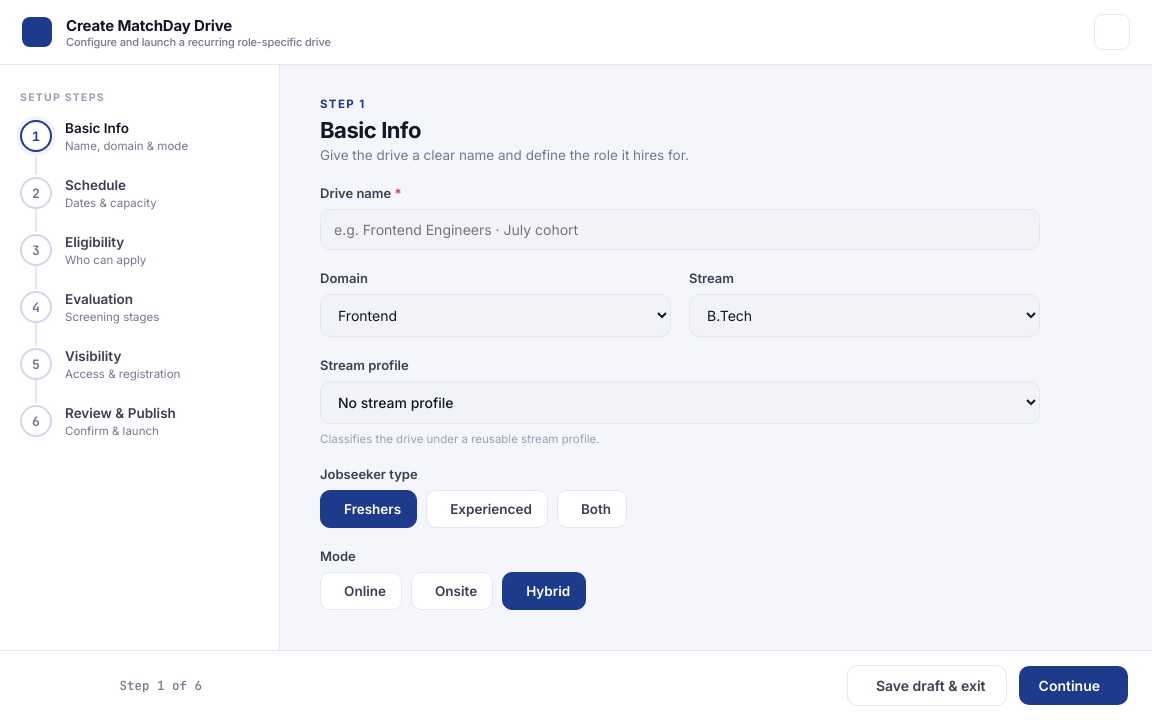
Test: DriveWizard › allows Continue once a name is entered
Type "Frontend Engineers · July cohort" into the field with placeholder "e.g. Frontend Engineers · July cohort".
click(680, 230); type("Frontend Engineers · July cohort")  # box [320,209,1040,250]
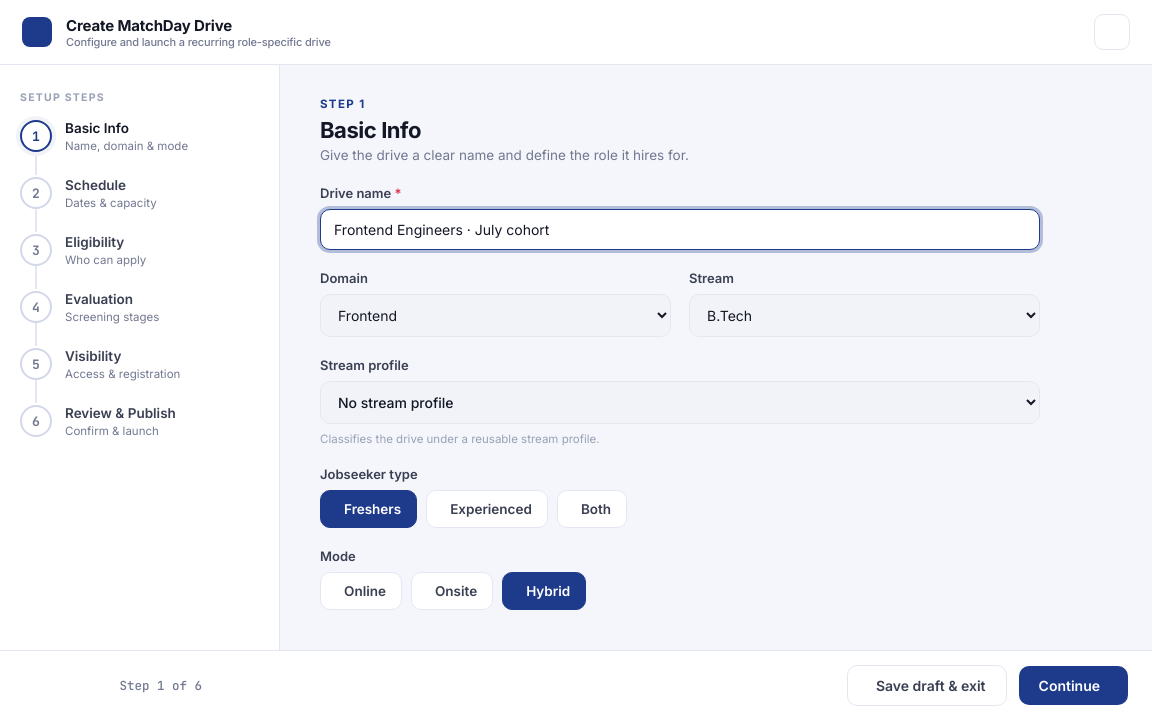
Click the button "Continue".
click(1073, 686)  # box [1019,666,1128,705]
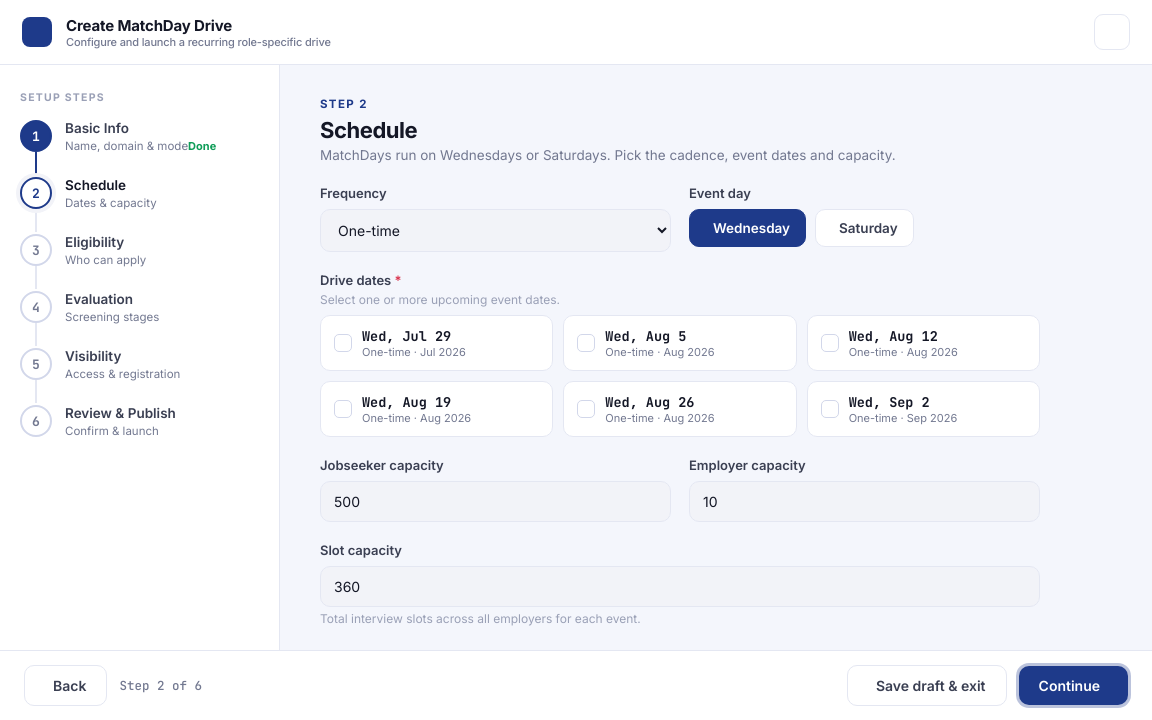
Now the heading "Schedule" is shown, box [320,117,417,143]
